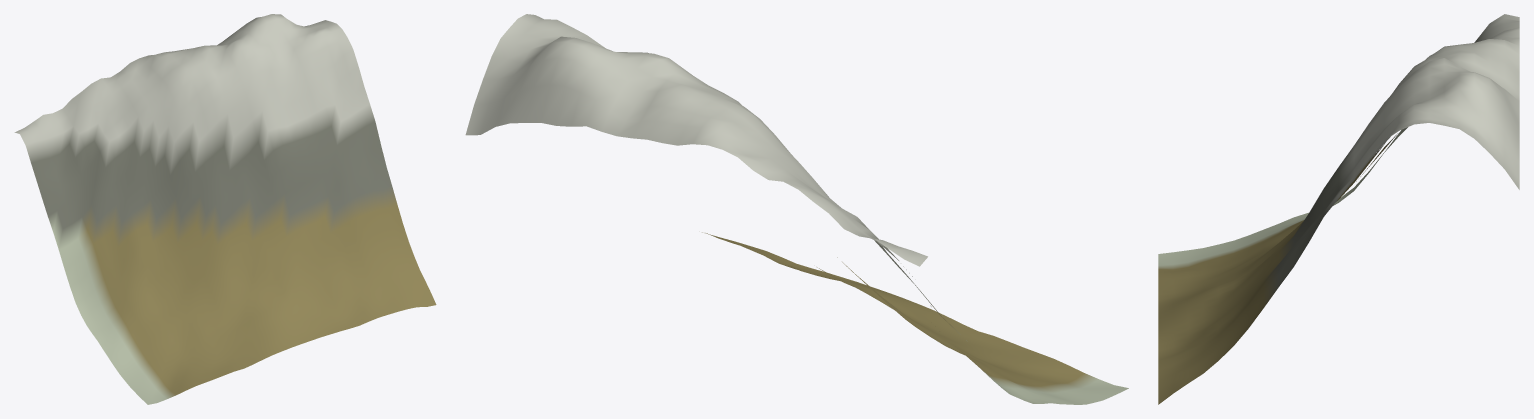
3 renders of one model, left to right at view 1: azimuth 30°, elevation 25°; view 2: azimuth 150°, elevation 25°; view 3: azimuth 270°, elevation 25°, orthographic. The views are drawn at different scales.
Parts seen in each view (by area): view 1: world-ground/180-24; view 2: world-ground/180-24; view 3: world-ground/180-24.
Boxes of the visible parts, bbox=[...] form: world-ground/180-24: bbox=[14, 14, 436, 404]; world-ground/180-24: bbox=[465, 14, 1128, 404]; world-ground/180-24: bbox=[1158, 14, 1519, 404].
Bounding box in the file's own units: 37.5 × 30.68 × 30.
